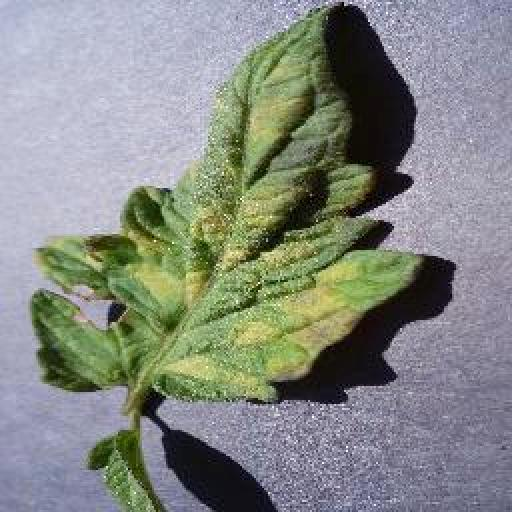disease_tomato: (27, 0, 424, 402)
